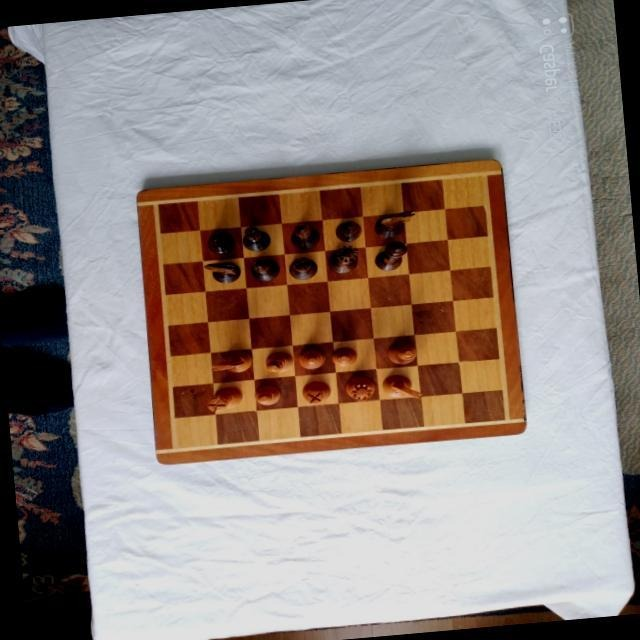black-bishop: (288, 222, 320, 250), (248, 256, 280, 281)
black-king: (371, 240, 408, 271)
black-knight: (372, 209, 416, 239), (202, 259, 241, 284)
black-pawn: (205, 232, 235, 254), (334, 219, 362, 241)
black-queen: (326, 245, 359, 275)
black-rook: (240, 225, 270, 251), (286, 255, 317, 280)
white-bishop: (384, 338, 416, 365), (263, 351, 293, 373)
white-king: (296, 347, 326, 369)
white-knight: (381, 372, 423, 402), (208, 349, 252, 375)
white-pawn: (253, 383, 281, 406), (330, 346, 358, 366)
white-queen: (343, 374, 375, 402)
white-rook: (204, 386, 242, 412), (300, 380, 331, 404)
